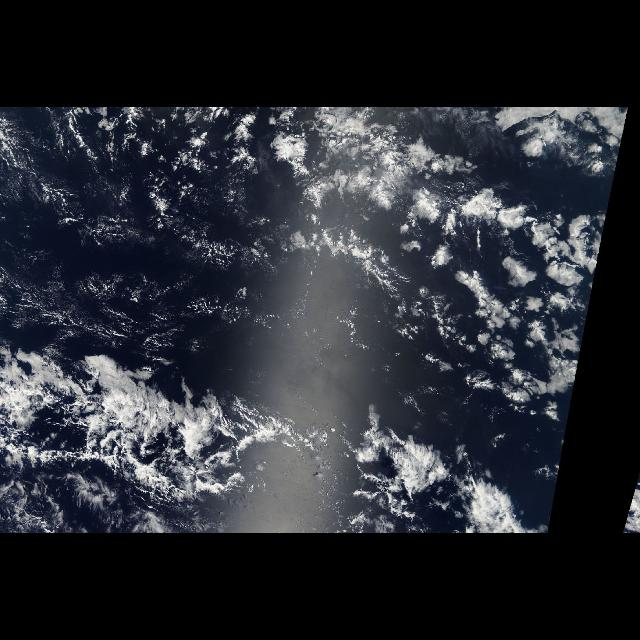Fish: (0, 341, 554, 533)
Flower: (122, 108, 614, 414), (348, 417, 524, 533)
Sugar: (2, 143, 286, 369)
